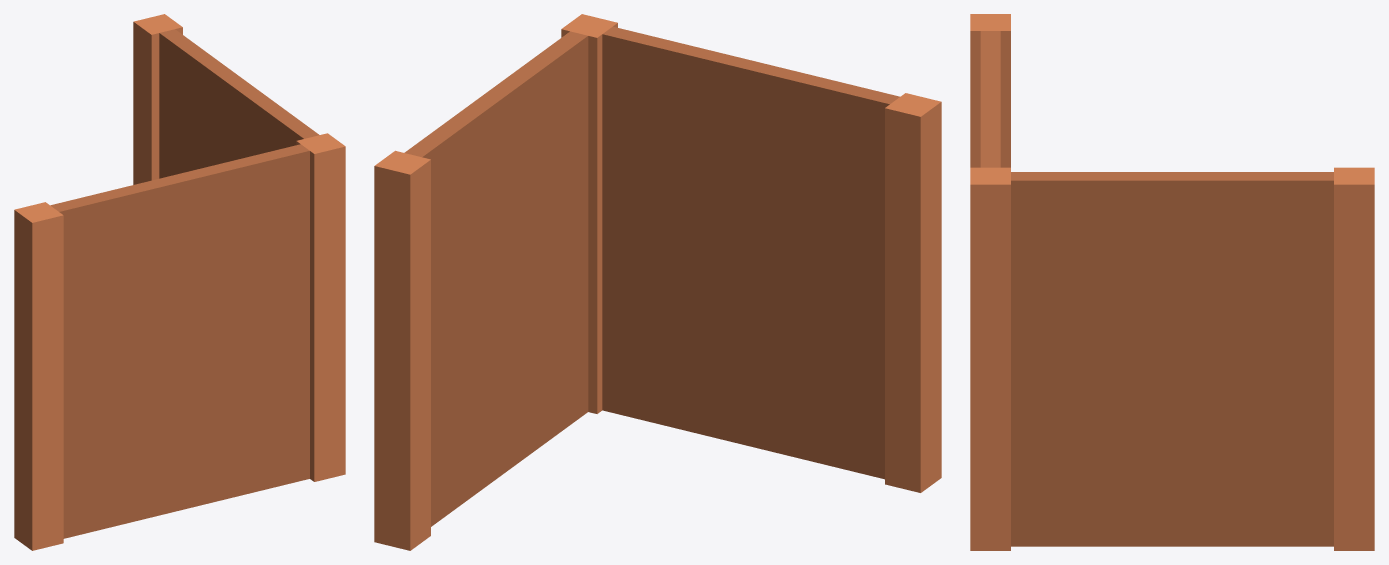
File: wallWoodCorner.fbx
The picture shows the model from 3 angles, left to right: view 1: azimuth 30°, elevation 25°; view 2: azimuth 150°, elevation 25°; view 3: azimuth 270°, elevation 25°; orthographic projection. The views are drawn at different scales.
Parts seen in each view (by area): view 1: wallWoodCorner; view 2: wallWoodCorner; view 3: wallWoodCorner.
Part boxes in pixels (x1=…): wallWoodCorner: x1=14, y1=14, x2=345, y2=550; wallWoodCorner: x1=374, y1=14, x2=941, y2=550; wallWoodCorner: x1=970, y1=14, x2=1374, y2=550.
Bounding box in the file's own units: 10 × 10 × 10.
